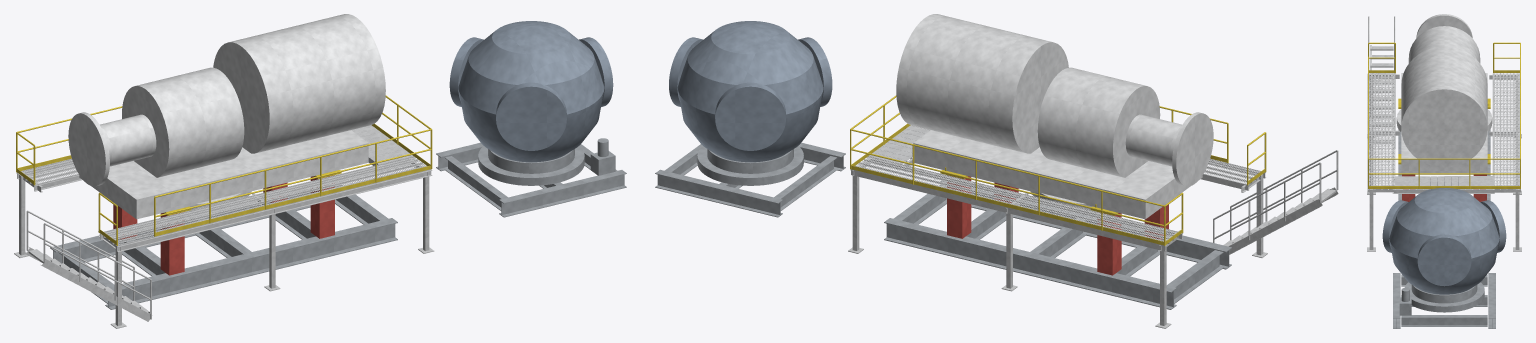
The model's file is nacelle-and-hub-assembly-fixtures.glb.
The picture shows the model from 3 angles, left to right: view 1: azimuth 30°, elevation 25°; view 2: azimuth 150°, elevation 25°; view 3: azimuth 270°, elevation 25°; orthographic projection. The views are drawn at different scales.
Visible parts, largest first — view 1: Nacelle(context), Hub(context), WorkPlatform, BaseFrame, HubTurntableFixture, Handrails, AccessStair, Pedestals; view 2: Nacelle(context), Hub(context), BaseFrame, WorkPlatform, HubTurntableFixture, Handrails, AccessStair, Pedestals; view 3: Nacelle(context), Hub(context), WorkPlatform, HubTurntableFixture, Handrails, AccessStair, BaseFrame, Pedestals, AdapterPlates.
Part boxes in pixels (x1,y1,x2,y2): Nacelle(context): (68,14,385,219); Hub(context): (449,21,613,162); WorkPlatform: (14,125,434,328); BaseFrame: (50,185,397,309); HubTurntableFixture: (436,138,626,217); Handrails: (16,95,432,245); AccessStair: (25,210,152,321); Pedestals: (113,175,334,275); Nacelle(context): (896,14,1213,219); Hub(context): (669,21,832,162); BaseFrame: (884,181,1231,309); WorkPlatform: (848,125,1267,328); HubTurntableFixture: (655,142,845,217); Handrails: (850,95,1266,245); AccessStair: (1213,150,1338,254); Pedestals: (947,175,1168,275); Nacelle(context): (1396,14,1492,173); Hub(context): (1382,188,1506,294); WorkPlatform: (1367,73,1521,251); HubTurntableFixture: (1393,273,1495,328); Handrails: (1368,42,1520,188); AccessStair: (1368,16,1395,148); BaseFrame: (1398,129,1490,200); Pedestals: (1402,174,1486,201); AdapterPlates: (1398,98,1490,164).
Size of the model in its own units: 17.65 by 5.74 by 5.2.
Materials: 6 (6 with a texture image).
